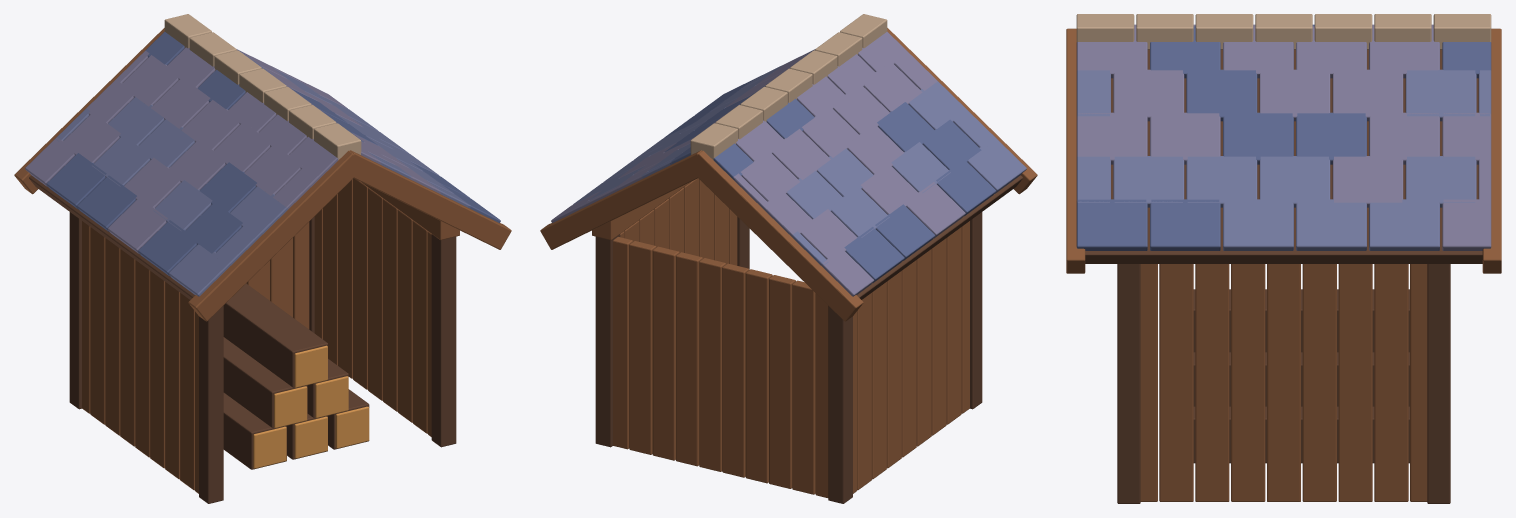
The model's file is ashwick-woodshed.meshopt.glb.
The picture shows the model from 3 angles, left to right: view 1: azimuth 30°, elevation 25°; view 2: azimuth 150°, elevation 25°; view 3: azimuth 270°, elevation 25°; orthographic projection. The views are drawn at different scales.
Parts seen in each view (by area): view 1: Side boards.001, Overlapping slate courses.003, Corner posts.001, Overlapping slate courses.005, Stored firewood.001, Overlapping slate courses.004, Carved verge.001, Cut ends.001, Ridge caps.001, Rear boards.001, Roof decking.001, Eave bearer.001; view 2: Rear boards.001, Side boards.001, Overlapping slate courses.003, Overlapping slate courses.005, Corner posts.001, Overlapping slate courses.004, Carved verge.001, Ridge caps.001, Roof decking.001, Eave bearer.001; view 3: Side boards.001, Overlapping slate courses.003, Overlapping slate courses.005, Overlapping slate courses.004, Ridge caps.001, Corner posts.001, Roof decking.001, Carved verge.001, Stored firewood.001.
Boxes of the visible parts, x1,y1,x2,y2 form: Side boards.001: [82, 178, 431, 493]; Overlapping slate courses.003: [25, 47, 440, 254]; Corner posts.001: [69, 212, 456, 503]; Overlapping slate courses.005: [55, 49, 470, 296]; Stored firewood.001: [223, 283, 369, 469]; Overlapping slate courses.004: [46, 31, 500, 276]; Carved verge.001: [14, 28, 511, 321]; Cut ends.001: [253, 345, 369, 468]; Ridge caps.001: [164, 14, 361, 159]; Rear boards.001: [246, 222, 309, 328]; Roof decking.001: [29, 175, 194, 299]; Eave bearer.001: [360, 181, 459, 240]; Rear boards.001: [613, 237, 828, 497]; Side boards.001: [620, 178, 969, 493]; Overlapping slate courses.003: [551, 31, 965, 296]; Overlapping slate courses.005: [573, 49, 1026, 265]; Corner posts.001: [595, 212, 982, 503]; Overlapping slate courses.004: [664, 79, 996, 283]; Carved verge.001: [540, 28, 1037, 321]; Ridge caps.001: [690, 14, 887, 159]; Roof decking.001: [857, 175, 1022, 299]; Eave bearer.001: [592, 181, 691, 240]; Side boards.001: [1140, 264, 1427, 501]; Overlapping slate courses.003: [1076, 24, 1491, 250]; Overlapping slate courses.005: [1076, 69, 1491, 250]; Overlapping slate courses.004: [1076, 24, 1491, 250]; Ridge caps.001: [1076, 14, 1491, 49]; Corner posts.001: [1117, 264, 1450, 503]; Roof decking.001: [1085, 49, 1482, 263]; Carved verge.001: [1066, 28, 1501, 273]; Stored firewood.001: [1193, 289, 1409, 463].
Size of the model in its own units: 2.99 by 3.11 by 2.98.
